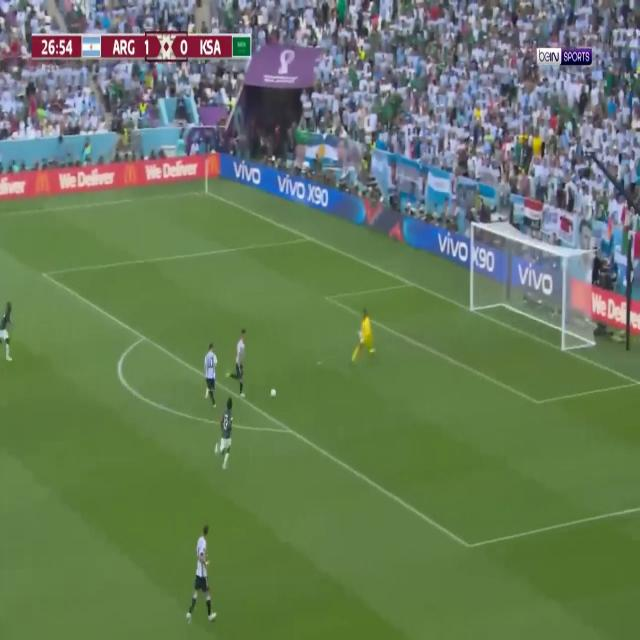Ball: (270, 387, 277, 398)
GoalKeeper: (349, 305, 376, 365)
TEAM 1: (186, 522, 218, 626), (224, 325, 248, 399), (202, 341, 218, 411)
TEAM 2: (213, 398, 236, 470), (0, 294, 14, 364)
